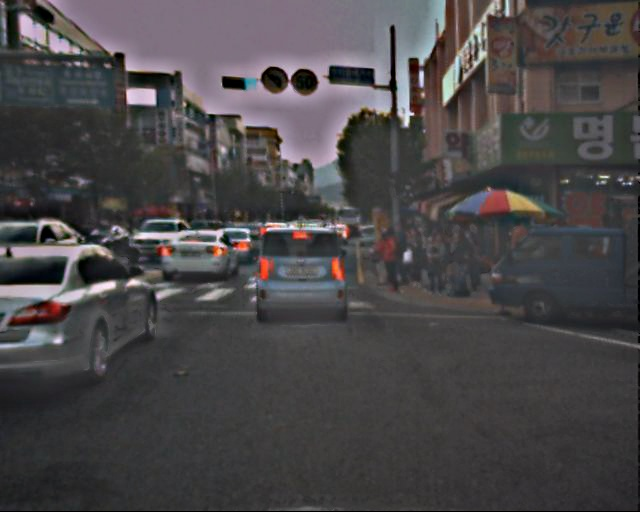person: (406, 220, 479, 291), (507, 219, 532, 281), (379, 228, 404, 288), (369, 229, 390, 279)
